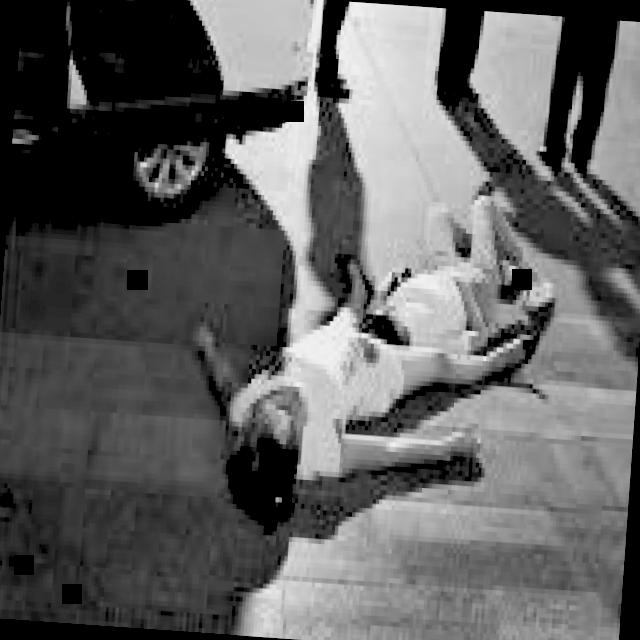Fall-Detected: (175, 238, 535, 523)
